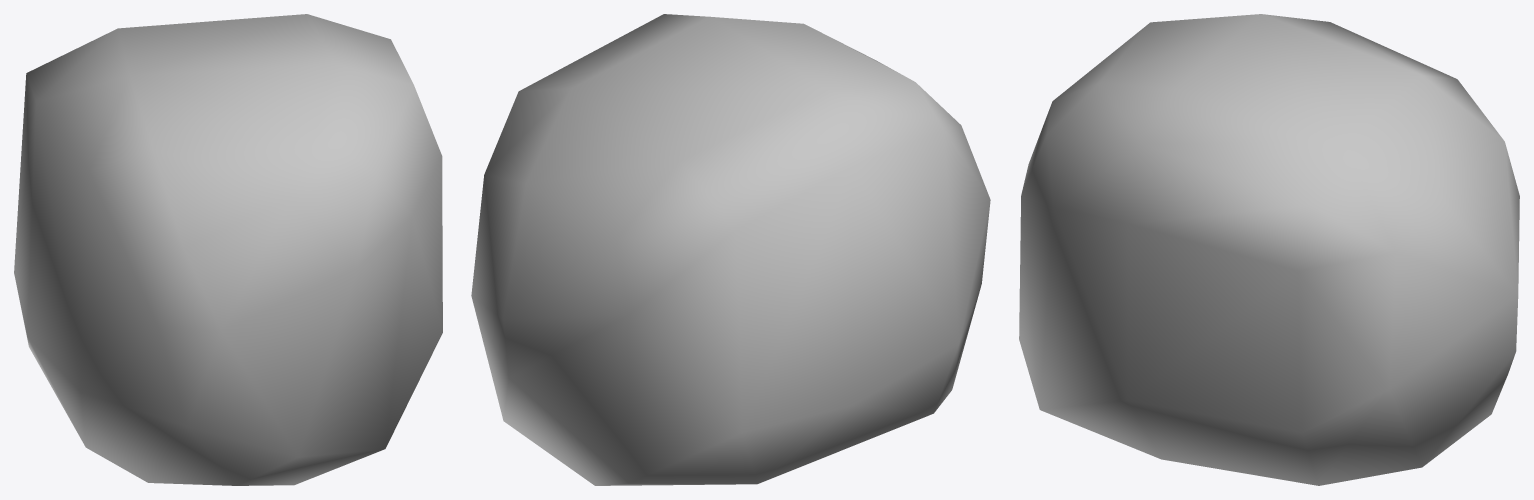
The model's file is Stone2.fbx.
3 views of the same model, side by side, from view 1: azimuth 30°, elevation 25°; view 2: azimuth 150°, elevation 25°; view 3: azimuth 270°, elevation 25° (orthographic).
Visible parts, largest first — view 1: Piedra_2; view 2: Piedra_2; view 3: Piedra_2.
Part boxes in pixels (<box>): Piedra_2: <box>14,14,442,485</box>; Piedra_2: <box>471,14,990,485</box>; Piedra_2: <box>1019,14,1519,485</box>.
Bounding box in the file's own units: 4.09 × 3.6 × 4.48.
